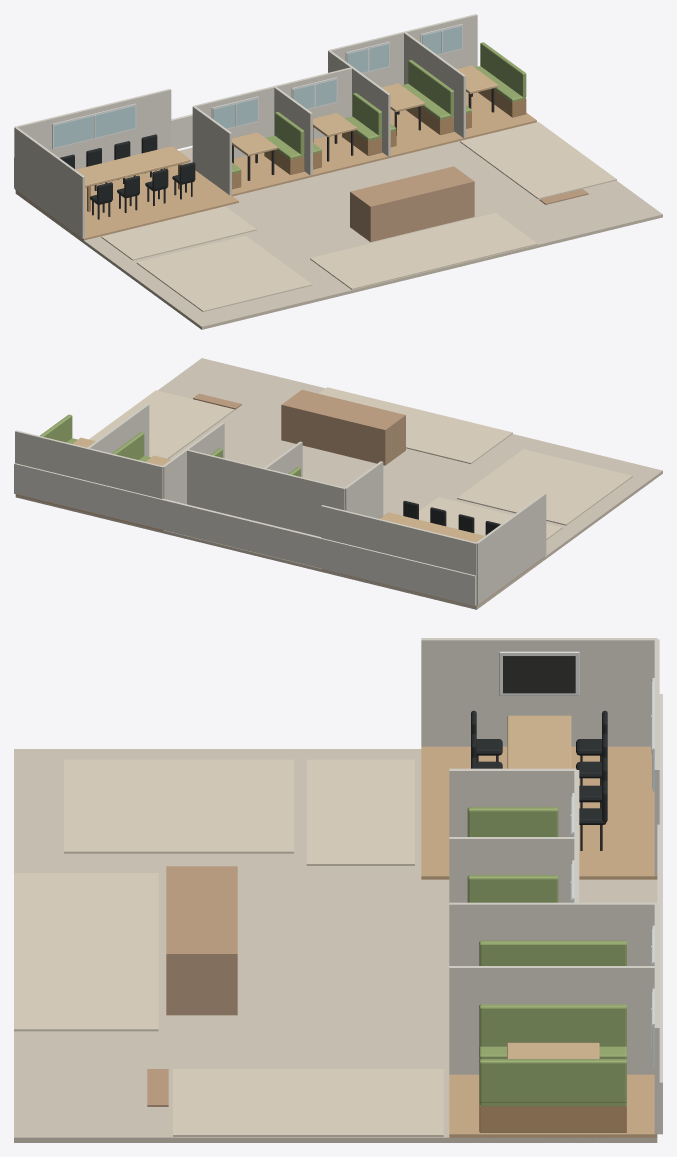
File: daan.glb
3 renders of one model, top to bottom at view 1: azimuth 30°, elevation 25°; view 2: azimuth 150°, elevation 25°; view 3: azimuth 270°, elevation 25°, orthographic. The views are drawn at different scales.
Visible parts, largest first — view 1: Common_floor, Tea_area, Office, Counter, Lounge, Floor.004, Left wall.004, Back wall.004, Service_area, Left wall.003, Left wall, Meeting table (+30 smaller); view 2: Common_floor, Back_window_wall, Office, Counter, Back wall.004, Left wall.004, Tea_area, Back wall.002, Lounge, Back wall.003, Back wall.001, Back wall (+8 smaller); view 3: Common_floor, Tea_area, Office, Left wall.004, Lounge, Floor.004, Left wall, Service_area, Counter, Left wall.001, Green backrest.001, Green backrest (+17 smaller).
Part boxes in pixels (left/top/right/bottom): Common_floor: left=15, top=122, right=662, bottom=329; Tea_area: left=310, top=213, right=537, bottom=289; Office: left=136, top=235, right=312, bottom=311; Counter: left=350, top=166, right=474, bottom=242; Lounge: left=460, top=122, right=616, bottom=199; Floor.004: left=15, top=163, right=238, bottom=240; Left wall.004: left=14, top=127, right=84, bottom=238; Back wall.004: left=15, top=89, right=171, bottom=169; Service_area: left=101, top=206, right=256, bottom=260; Left wall.003: left=192, top=106, right=231, bottom=195; Left wall: left=404, top=32, right=465, bottom=138; Meeting table: left=76, top=146, right=190, bottom=187; Common_floor: left=15, top=358, right=662, bottom=609; Back_window_wall: left=14, top=463, right=476, bottom=605; Office: left=457, top=449, right=632, bottom=525; Counter: left=281, top=389, right=405, bottom=465; Back wall.004: left=321, top=505, right=476, bottom=575; Left wall.004: left=476, top=493, right=546, bottom=605; Tea_area: left=319, top=387, right=512, bottom=463; Back wall.002: left=187, top=449, right=264, bottom=522; Lounge: left=89, top=390, right=234, bottom=458; Back wall.003: left=263, top=468, right=344, bottom=536; Back wall.001: left=87, top=448, right=163, bottom=498; Back wall: left=15, top=430, right=87, bottom=480; Common_floor: left=14, top=749, right=657, bottom=1142; Tea_area: left=14, top=873, right=158, bottom=1031; Office: left=64, top=759, right=293, bottom=853; Left wall.004: left=421, top=638, right=657, bottom=746; Lounge: left=173, top=1069, right=443, bottom=1136; Floor.004: left=421, top=746, right=657, bottom=879; Left wall: left=449, top=966, right=657, bottom=1074; Service_area: left=306, top=759, right=414, bottom=865; Counter: left=166, top=866, right=237, bottom=1015; Left wall.001: left=449, top=902, right=657, bottom=965; Green backrest.001: left=479, top=1059, right=626, bottom=1102; Green backrest: left=479, top=1004, right=626, bottom=1046.
Size of the model in its own units: 12.95 by 1.78 by 9.11.
